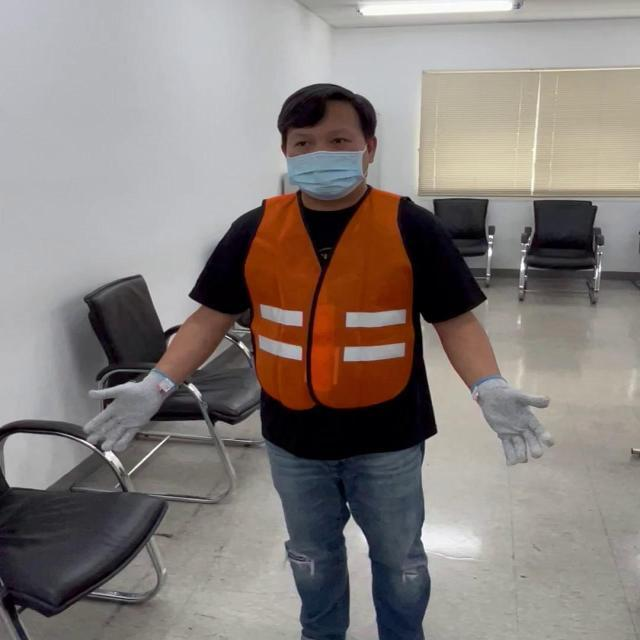gloved_hand: (466, 368, 553, 461), (83, 366, 173, 445)
